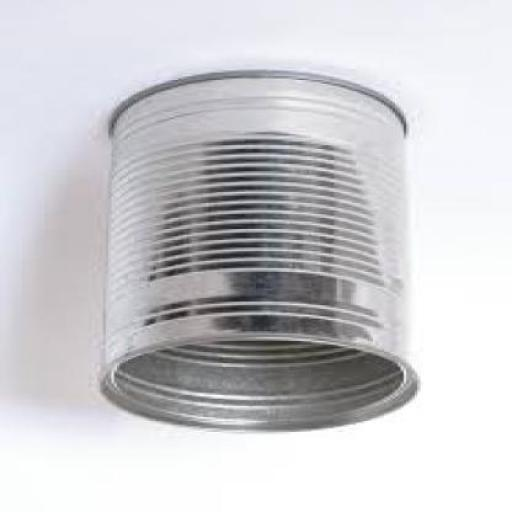metal: (95, 72, 417, 436)
